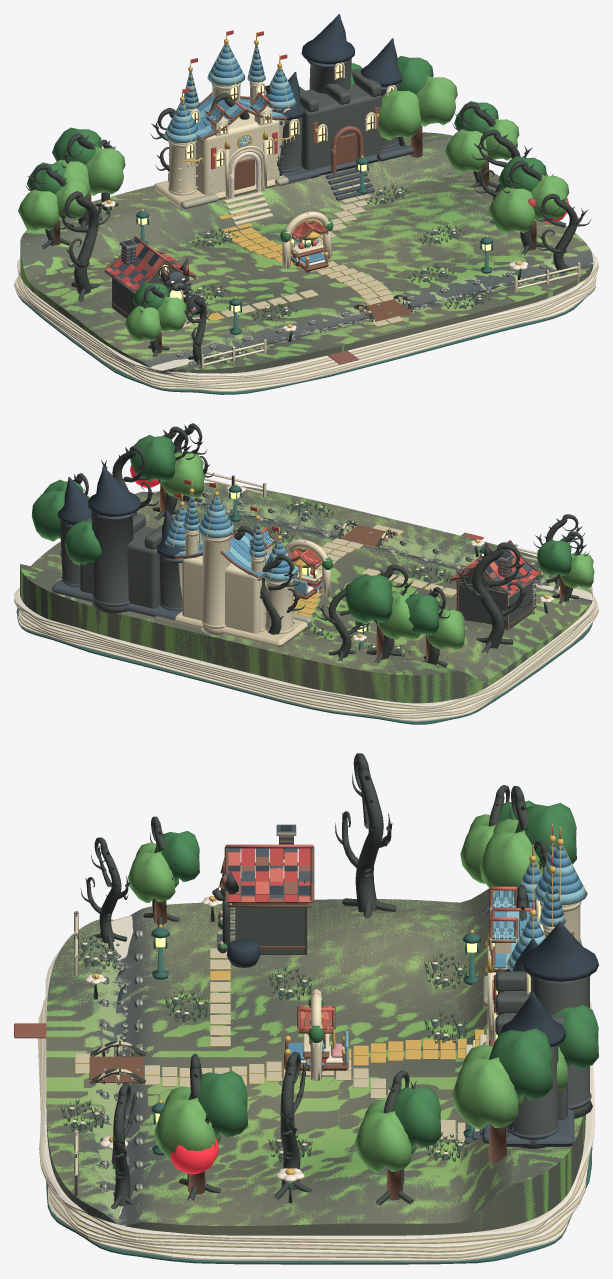
The model's file is fairytale.glb.
3 renders of one model, top to bottom at view 1: azimuth 30°, elevation 25°; view 2: azimuth 150°, elevation 25°; view 3: azimuth 270°, elevation 25°, orthographic. The views are drawn at different scales.
Parts seen in each view (by area): view 1: fairytale-back-stage-0, fairytale-front-stage-0, fairytale-front-stage-20, fairytale-front-stage-100, fairytale-back-stage-100, fairytale-back-stage-20, fairytale-back-stage-40, fairytale-front-stage-80, fairytale-front-stage-40, fairy-portal, fairytale-back-stage-60, fairy-food (+2 smaller); view 2: fairytale-back-stage-0, fairytale-front-stage-0, fairytale-front-stage-20, fairytale-front-stage-100, fairytale-back-stage-100, fairytale-back-stage-20, fairytale-back-stage-40, fairytale-front-stage-40, fairytale-front-stage-80, fairytale-back-stage-60, fairy-portal, fairy-food; view 3: fairytale-back-stage-0, fairytale-front-stage-0, fairytale-front-stage-20, fairytale-back-stage-20, fairytale-back-stage-100, fairytale-front-stage-100, fairytale-back-stage-40, fairytale-front-stage-40, fairytale-front-stage-80, fairytale-back-stage-60, fairy-portal, fairy-food (+2 smaller).
Part boxes in pixels (x1,y1,x2,y2): fairytale-back-stage-0: (14,132,597,393); fairytale-front-stage-0: (14,133,598,394); fairytale-front-stage-20: (18,56,569,363); fairytale-front-stage-100: (154,30,310,208); fairytale-back-stage-100: (265,14,414,182); fairytale-back-stage-20: (25,93,590,364); fairytale-back-stage-40: (104,237,204,318); fairytale-front-stage-80: (101,156,580,369); fairytale-front-stage-40: (105,236,197,320); fairy-portal: (280,211,333,268); fairytale-back-stage-60: (354,294,415,321); fairy-food: (285,220,328,262); fairytale-back-stage-0: (14,482,598,723); fairytale-front-stage-0: (14,483,598,724); fairytale-front-stage-20: (31,435,594,660); fairytale-front-stage-100: (155,480,311,647); fairytale-back-stage-100: (51,466,185,619); fairytale-back-stage-20: (60,423,589,667); fairytale-back-stage-40: (449,541,540,629); fairytale-front-stage-40: (449,540,540,630); fairytale-front-stage-80: (203,468,553,651); fairytale-back-stage-60: (336,520,397,548); fairy-portal: (285,539,332,596); fairy-food: (289,548,327,593); fairytale-back-stage-0: (14,888,592,1264); fairytale-front-stage-0: (14,894,595,1264); fairytale-front-stage-20: (61,800,598,1200); fairytale-back-stage-20: (61,753,548,1209); fairytale-back-stage-100: (482,921,598,1148); fairytale-front-stage-100: (482,824,587,1045); fairytale-back-stage-40: (212,824,314,967); fairytale-front-stage-40: (217,825,314,954); fairytale-front-stage-80: (74,896,480,1194); fairytale-back-stage-60: (89,1041,145,1084); fairy-portal: (308,988,323,1080); fairy-food: (297,1005,335,1070).
Size of the model in its own units: 30.2 by 11.89 by 22.55.
